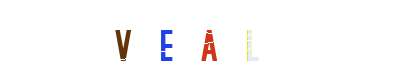A: (160, 0, 240, 80)
E: (125, 0, 205, 80)
L: (163, 0, 243, 80)
V: (83, 0, 163, 80)
